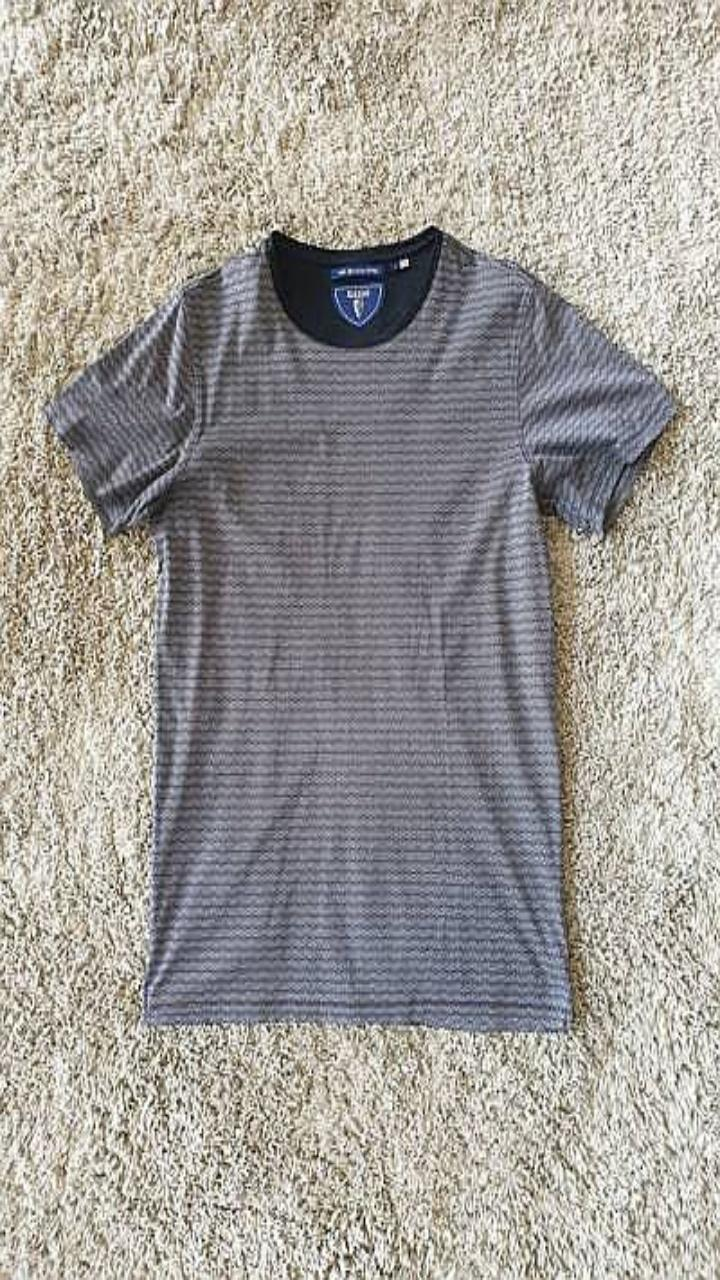T-Shirt: (43, 226, 674, 1031)
